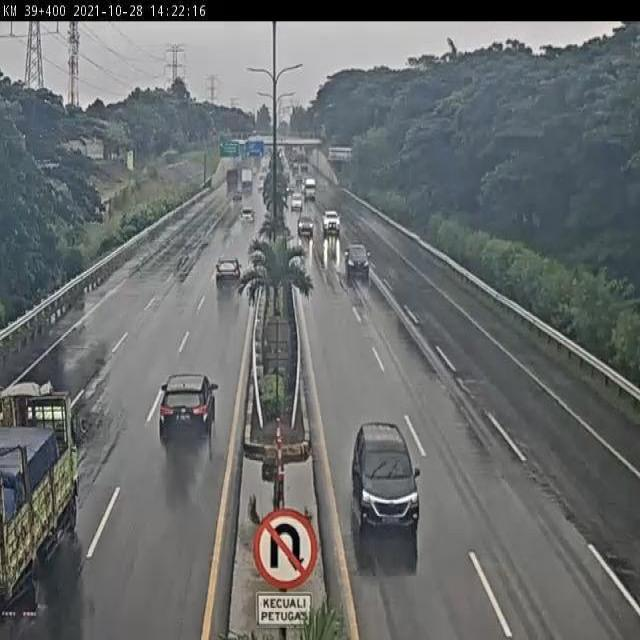car: (351, 421, 422, 540), (159, 373, 218, 444), (344, 243, 372, 277), (214, 256, 242, 288), (322, 209, 341, 235), (296, 211, 314, 235), (238, 206, 257, 226)
truck: (0, 385, 84, 619)
